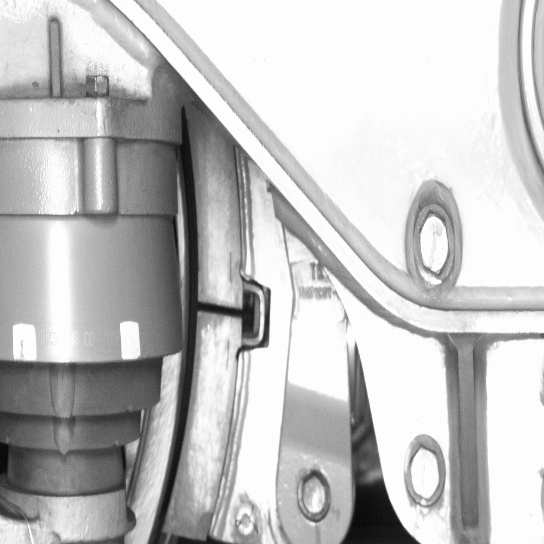KnifeSwitch: (147, 139, 250, 542)
